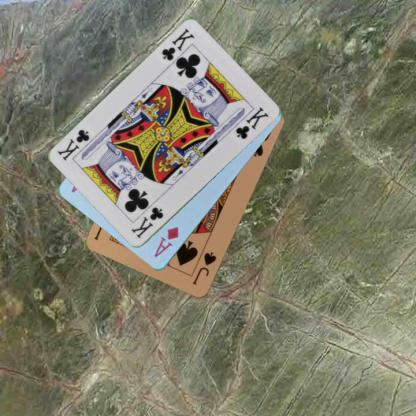Ad: (152, 224, 180, 260)
Js: (189, 249, 218, 287)
Kc: (128, 204, 165, 240), (159, 26, 196, 62)
